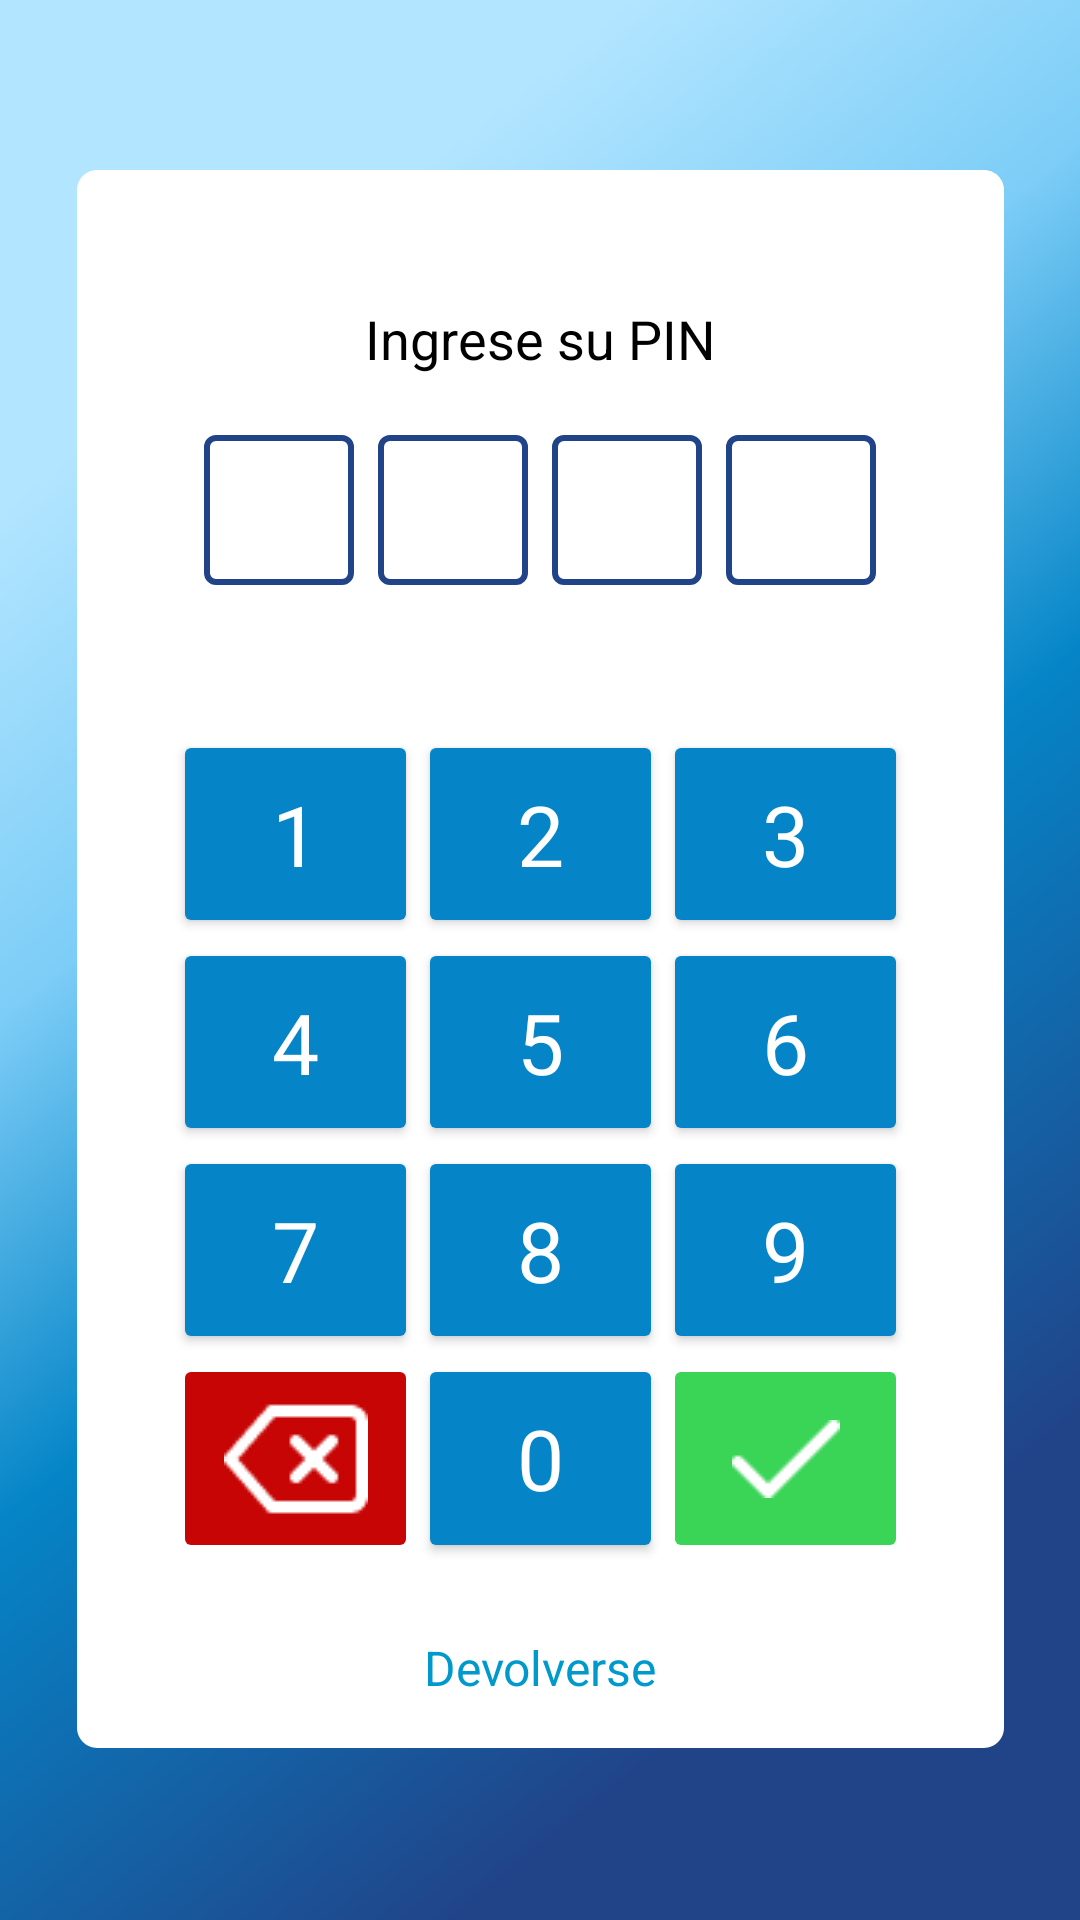

Where to tap for icons on this 1080 × 1920 app screen, as [x,y]:
confirm: [785,1458]
delete: [295,1458]
